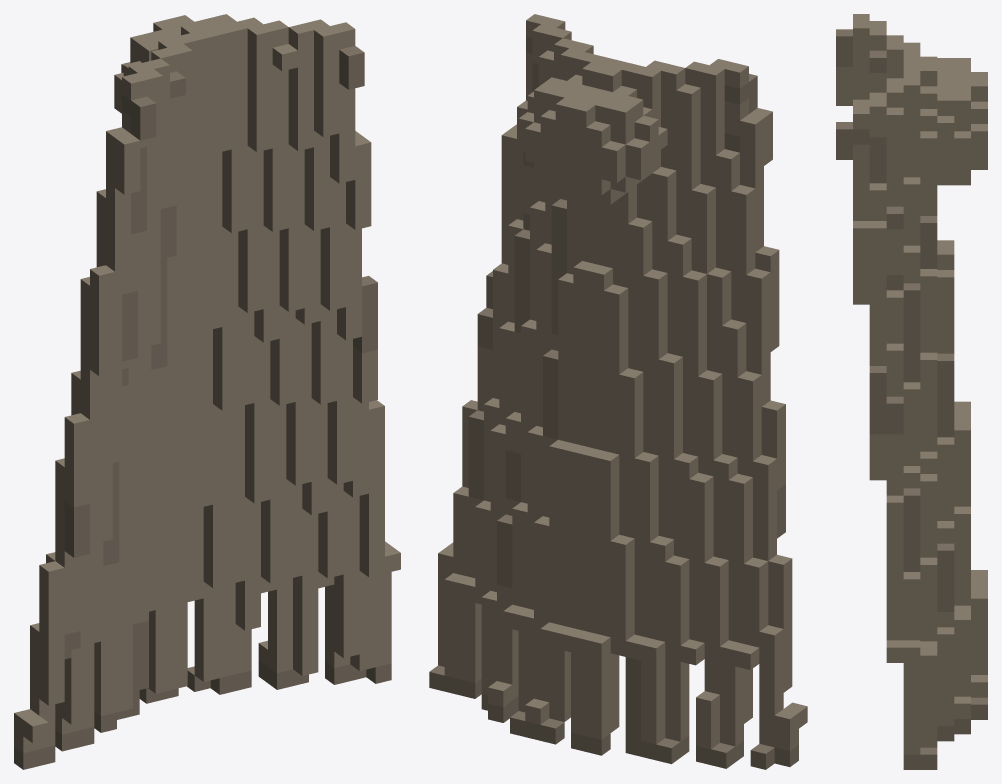
Rendered from leather_uncommon_cloak_lod1.glb.
3 views of the same model, side by side, from view 1: azimuth 30°, elevation 25°; view 2: azimuth 150°, elevation 25°; view 3: azimuth 270°, elevation 25° (orthographic). The views are drawn at different scales.
Parts seen in each view (by area): view 1: leather_uncommon_cloak_lod1; view 2: leather_uncommon_cloak_lod1; view 3: leather_uncommon_cloak_lod1.
Part boxes in pixels (x1=…): leather_uncommon_cloak_lod1: x1=14, y1=14, x2=400, y2=769; leather_uncommon_cloak_lod1: x1=429, y1=14, x2=807, y2=769; leather_uncommon_cloak_lod1: x1=836, y1=14, x2=987, y2=769.
Size of the model in its own units: 0.552 by 0.984 by 0.216.
